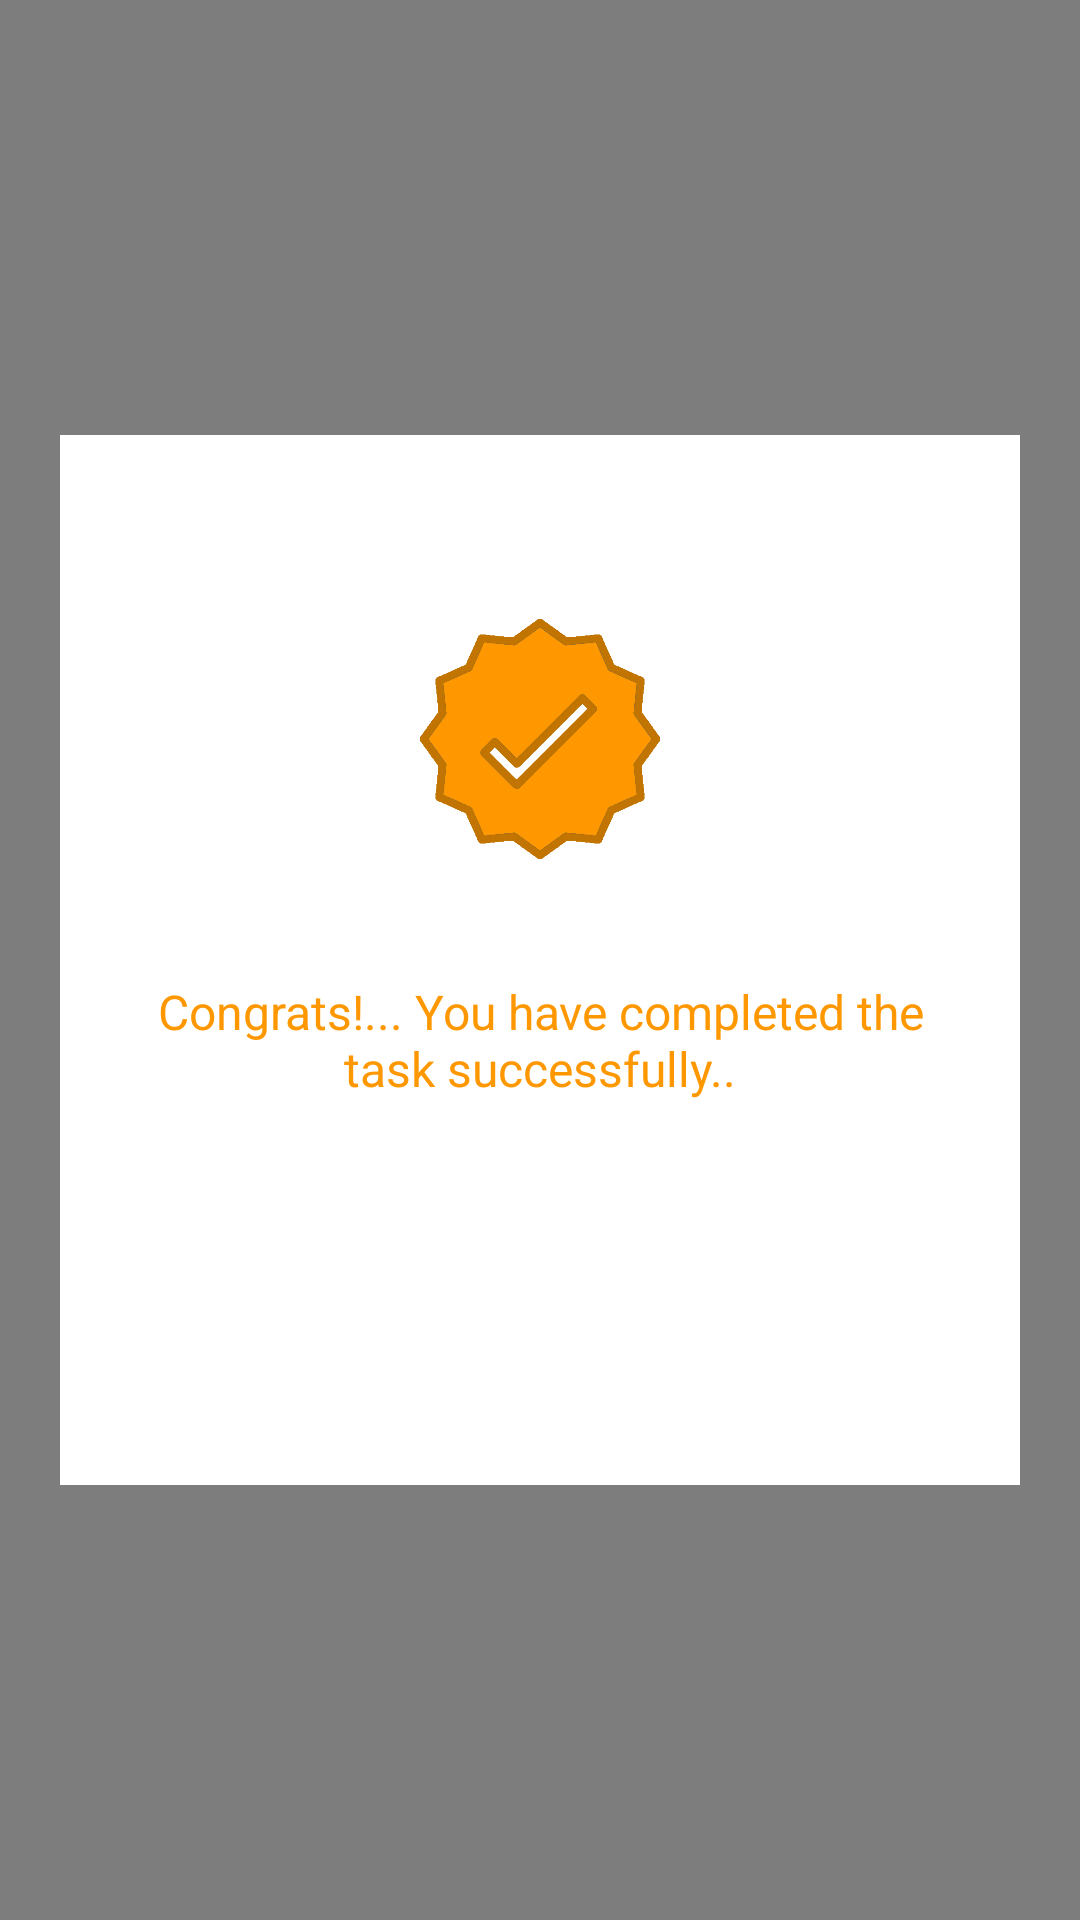

Locate icon controls on the screen. Image size 1080*1920, boxes as (x1, y1, x2, y2).
correct: (420, 619, 660, 859)
